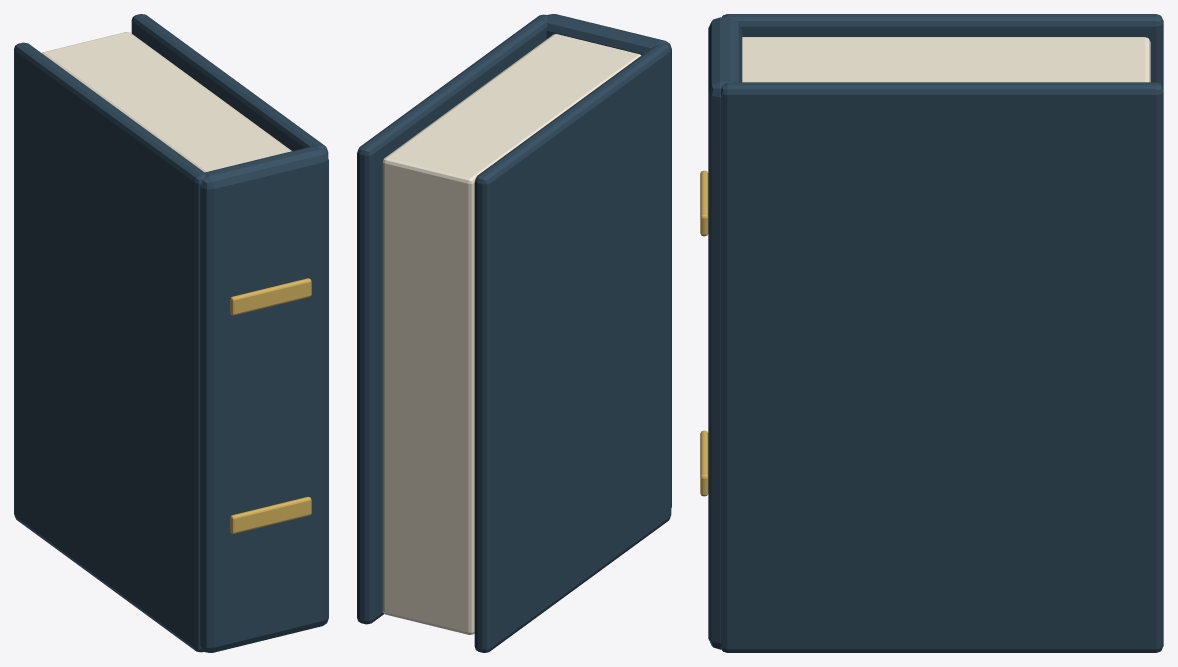
The model's file is book_navy.glb.
The picture shows the model from 3 angles, left to right: view 1: azimuth 30°, elevation 25°; view 2: azimuth 150°, elevation 25°; view 3: azimuth 270°, elevation 25°; orthographic projection. The views are drawn at different scales.
Visible parts, largest first — view 1: book_navy_Mesh; view 2: book_navy_Mesh; view 3: book_navy_Mesh.
Boxes of the visible parts, left/top/right/bottom form: book_navy_Mesh: left=14, top=14, right=328, bottom=652; book_navy_Mesh: left=357, top=14, right=671, bottom=652; book_navy_Mesh: left=700, top=14, right=1163, bottom=652.
Bounding box in the file's own units: 0.07 × 0.24 × 0.1775.
